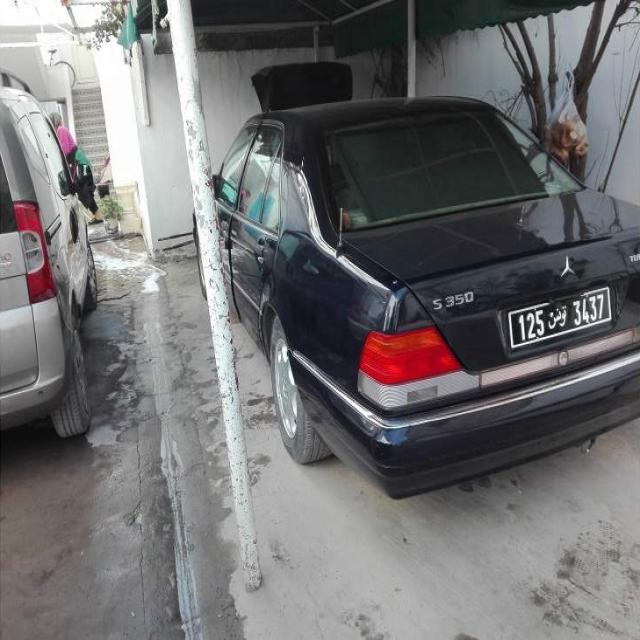licence plate: (511, 290, 609, 345)
